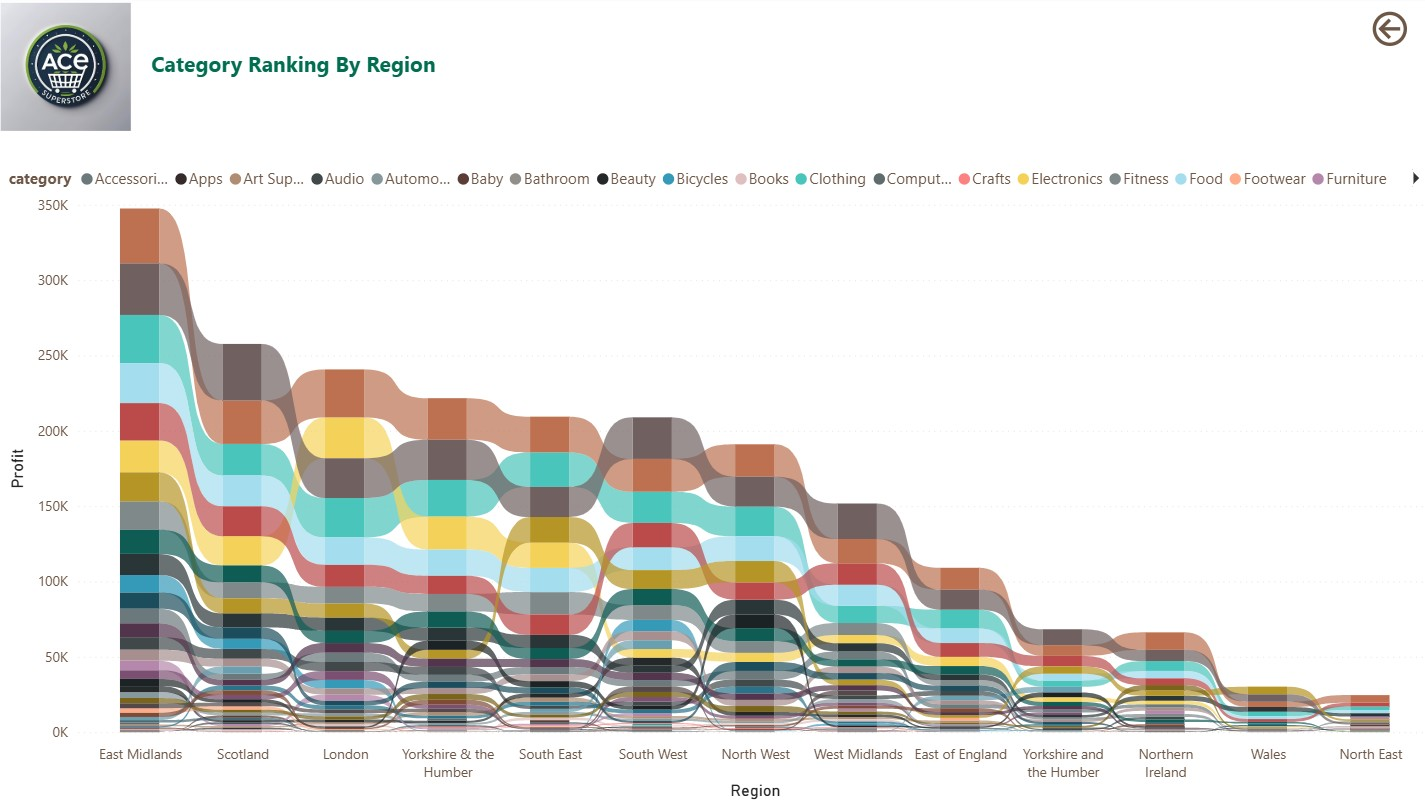

The page's visual inventory and layout, read from the dashboard file:
{"tool":"powerbi","page":{"name":"Ranking","canvas":[1280,720],"ordinal":2},"visuals":[{"type":"ribbonChart","title":"Regional Category Ranking","fields":{"Category":["rdamp region_category_rankings.region"],"Y":["Sum(rdamp region_category_rankings.profit)"],"Series":["rdamp region_category_rankings.category"]},"box":[7.1,141.1,1265.9,572.5],"z":0},{"type":"textbox","box":[117.9,8.1,652.1,108.9],"z":1000},{"type":"image","box":[0,0,125,125],"z":2000},{"type":"actionButton","box":[1210.5,9.1,54.4,40.3],"z":3000}]}

Visuals, with their boxes in screenshot pixels (x1, y1, x2, y2), scaled from the page's 1280x720 canvas onto the 1425x805 screenshot:
"Regional Category Ranking" ribbonChart: bbox=[8, 158, 1417, 798]
textbox: bbox=[131, 9, 857, 131]
image: bbox=[0, 0, 139, 140]
actionButton: bbox=[1348, 10, 1408, 55]
